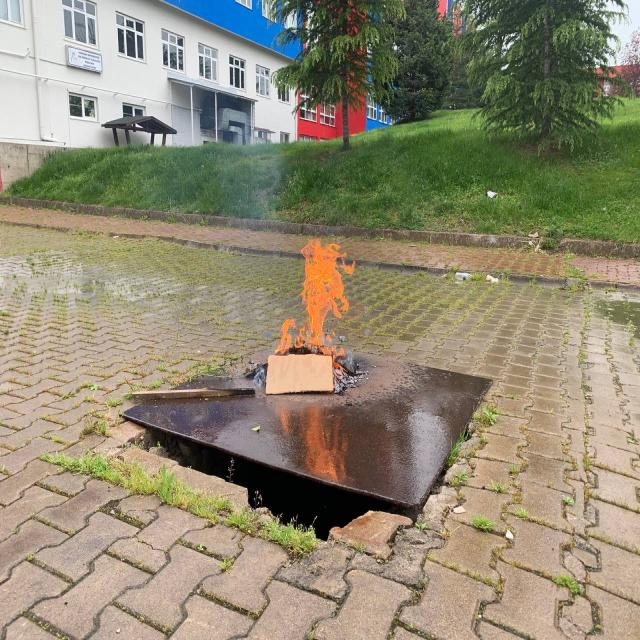fire: (258, 227, 364, 378)
